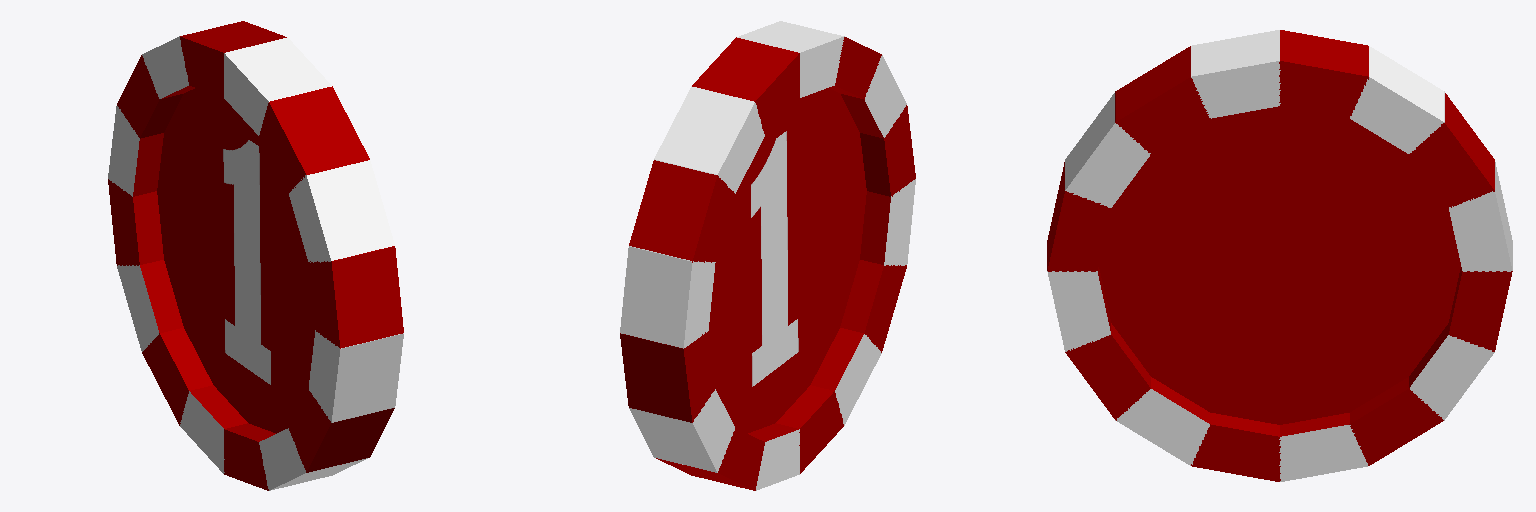
3 views of the same model, side by side, from view 1: azimuth 30°, elevation 25°; view 2: azimuth 150°, elevation 25°; view 3: azimuth 270°, elevation 25° (orthographic).
Visible parts, largest first — view 1: Token; view 2: Token; view 3: Token.
Boxes of the visible parts, x1,y1,x2,y2 form: Token: [108, 21, 403, 490]; Token: [620, 21, 915, 490]; Token: [1047, 30, 1512, 481].
Bounding box in the file's own units: 0.0101 × 0.0636 × 0.0636.
1 materials, 1 textured.